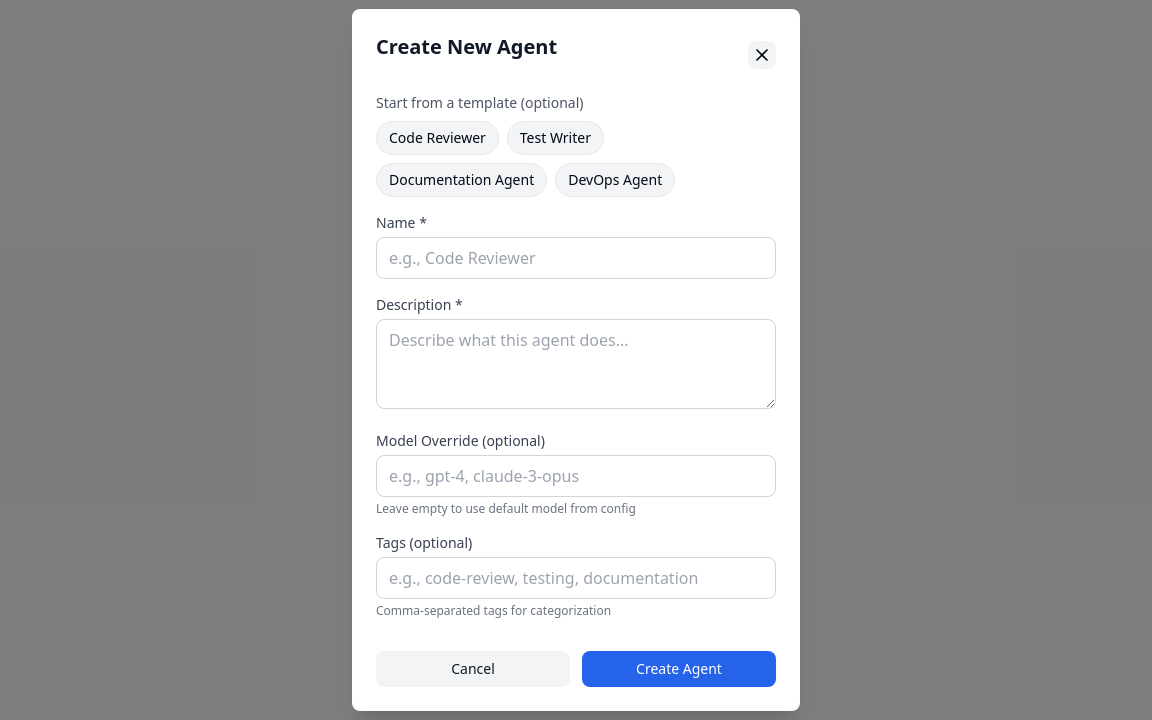
Test: CreateAgentModal › template selection › pre-fills form when template is selected
The width and height of the screenshot is (1152, 720).
Click the button "Code Reviewer".
click(437, 138)  # box [376,121,499,155]
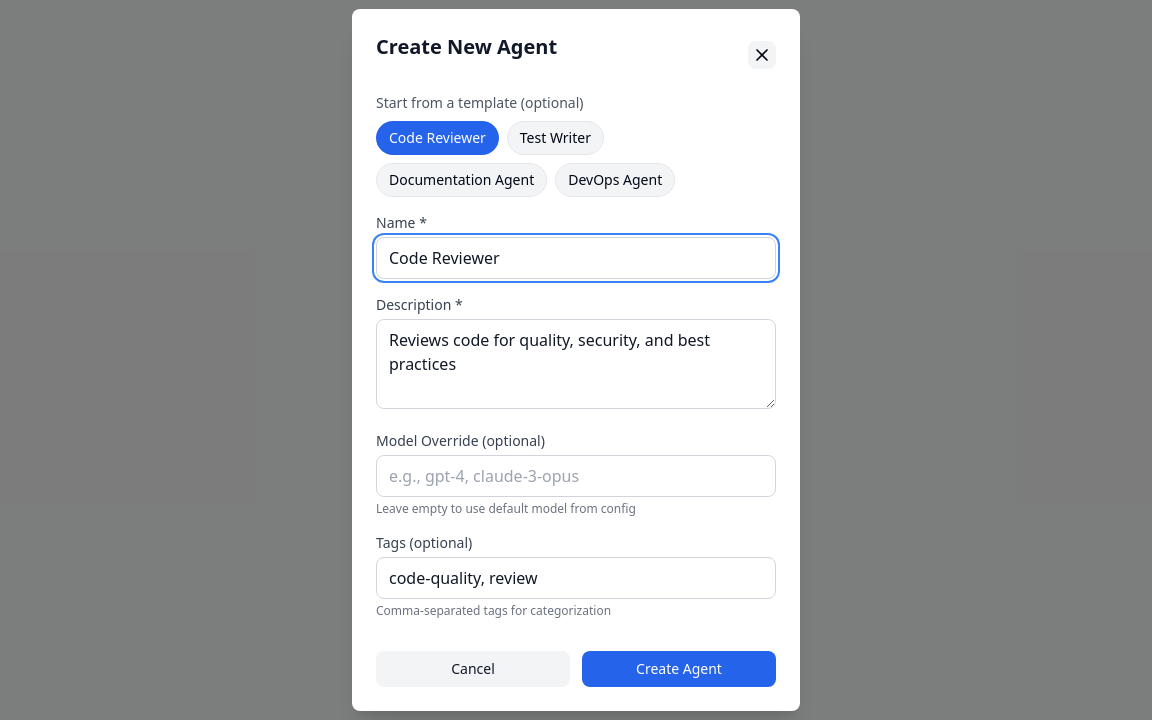
Expected: the field labelled "Name *" holds "Code Reviewer", [376,237,776,279]
Expected: the text box labelled "Description *" holds "Reviews code for quality, security, and best practices", [376,319,776,409]
Expected: the field labelled "Tags (optional)" holds "code-quality, review", [376,557,776,599]
